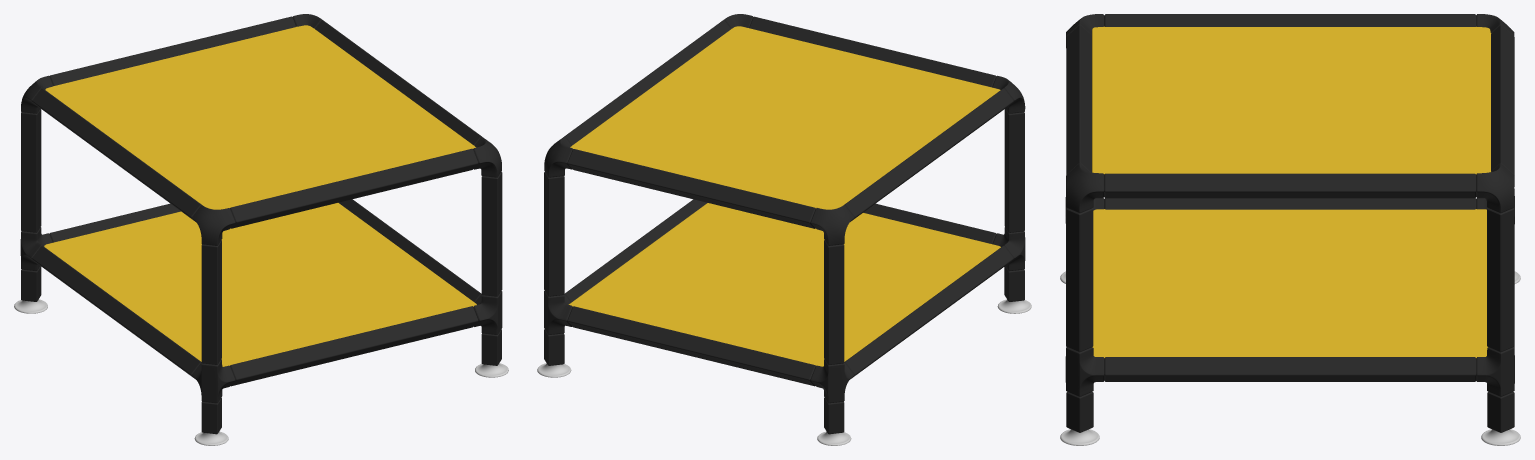
3 renders of one model, left to right at view 1: azimuth 30°, elevation 25°; view 2: azimuth 150°, elevation 25°; view 3: azimuth 270°, elevation 25°, orthographic. The views are drawn at different scales.
Parts seen in each view (by area): view 1: 329x374x154; view 2: 329x374x154; view 3: 329x374x154.
Boxes of the visible parts, bbox=[...] form: 329x374x154: bbox=[14, 14, 508, 445]; 329x374x154: bbox=[537, 14, 1031, 445]; 329x374x154: bbox=[1060, 14, 1520, 445].
Size of the model in its own units: 0.4189 by 0.2933 by 0.4632.
